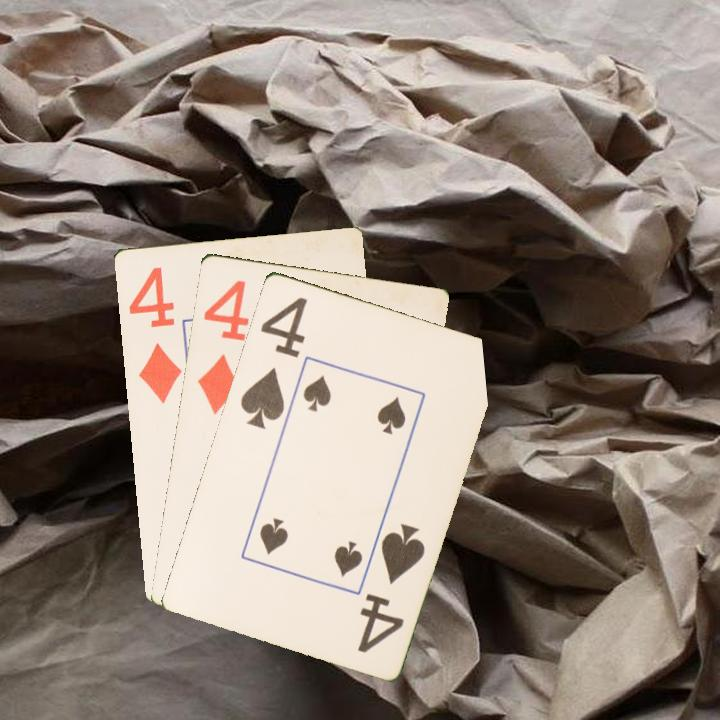4d: (125, 262, 184, 406), (193, 275, 251, 417)
4s: (236, 293, 310, 431), (354, 519, 428, 655)
